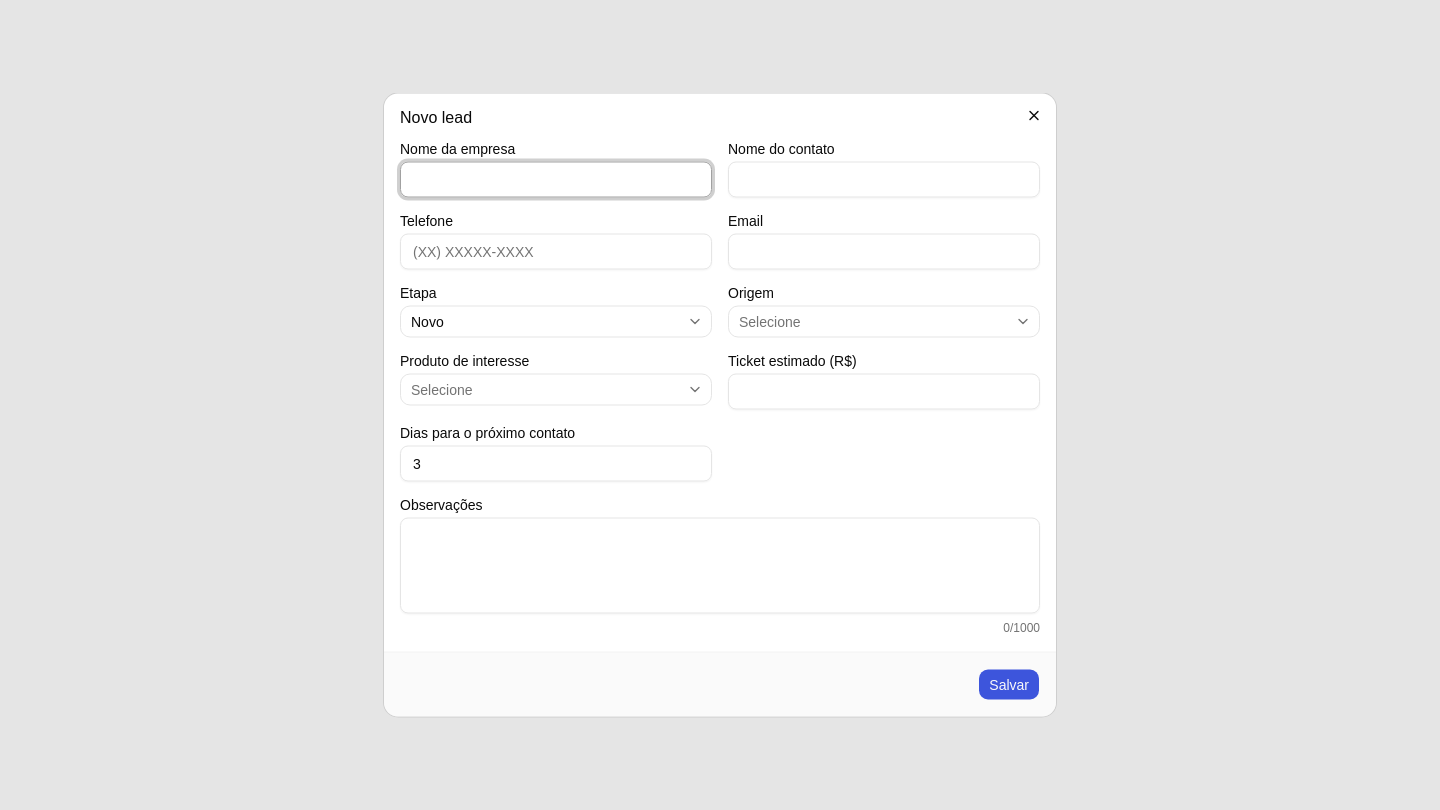
Scenario: LeadFormDialog › bloqueia salvar com email inválido e mostra erro no campo
Type "Empresa Bruno" into the field labelled "Nome da empresa" at point(556, 180), box 400,162 -> 712,198
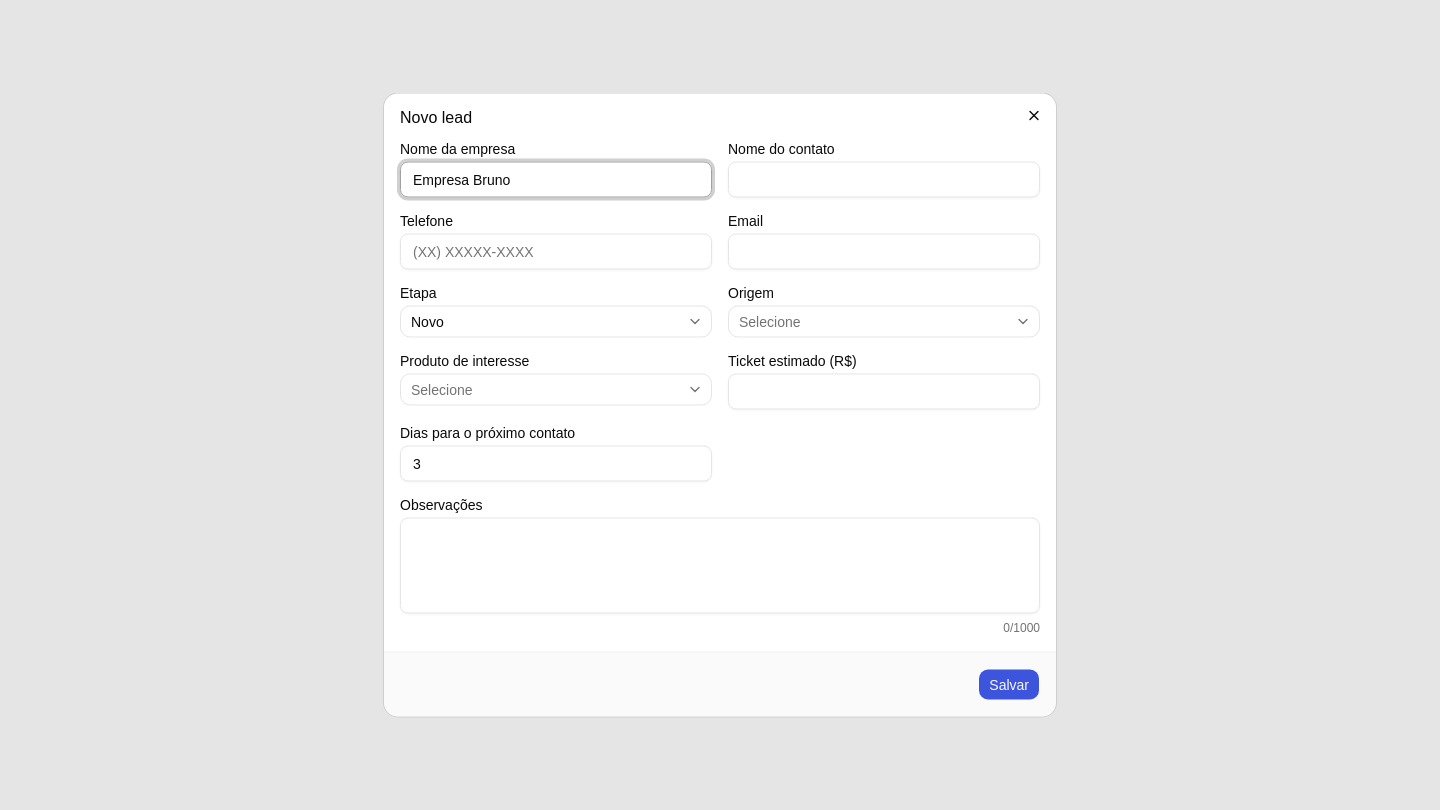
Type "Bruno" into the field labelled "Nome do contato" at point(884, 180), box 728,162 -> 1040,198
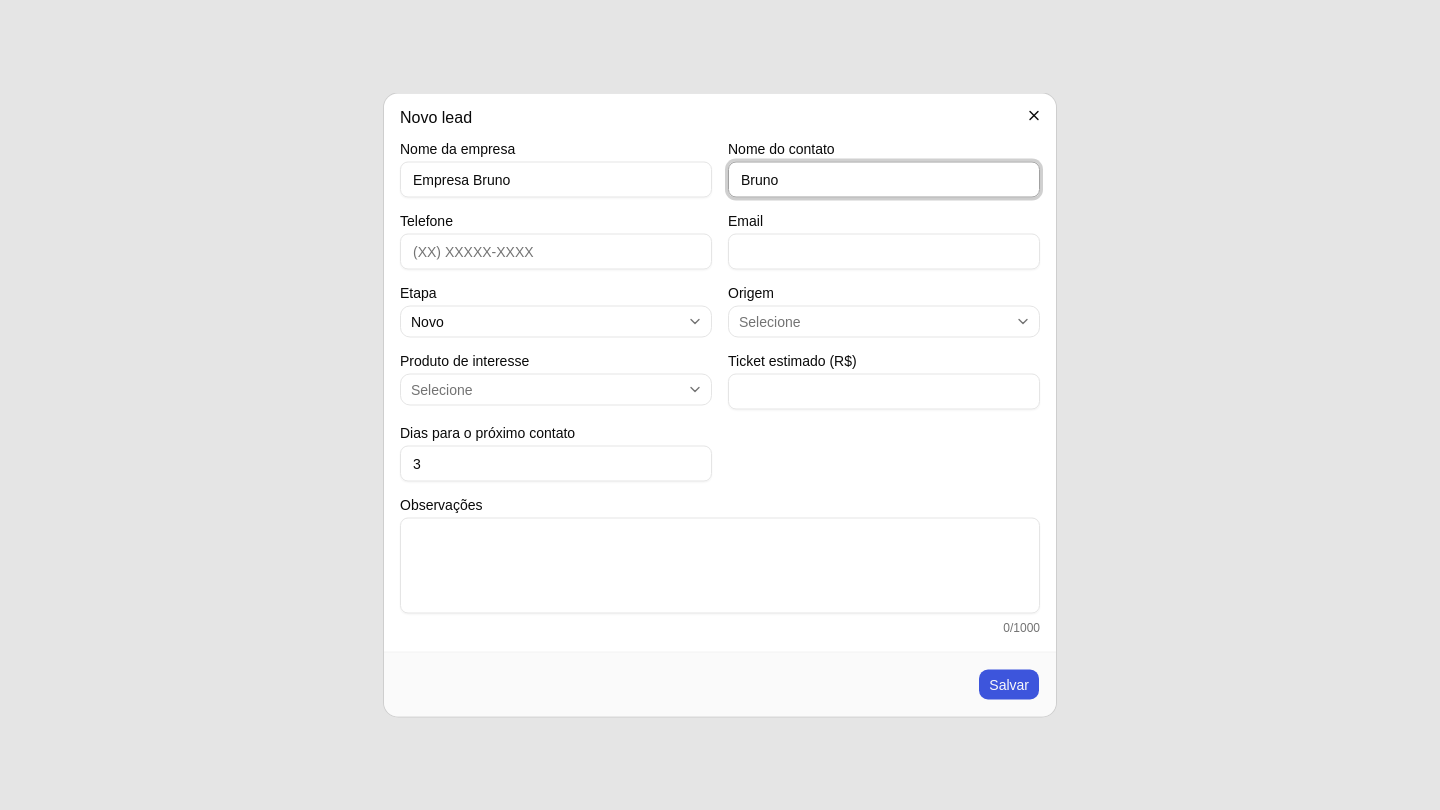
Type "11988887777" into the field labelled "Telefone" at point(556, 252), box 400,234 -> 712,270
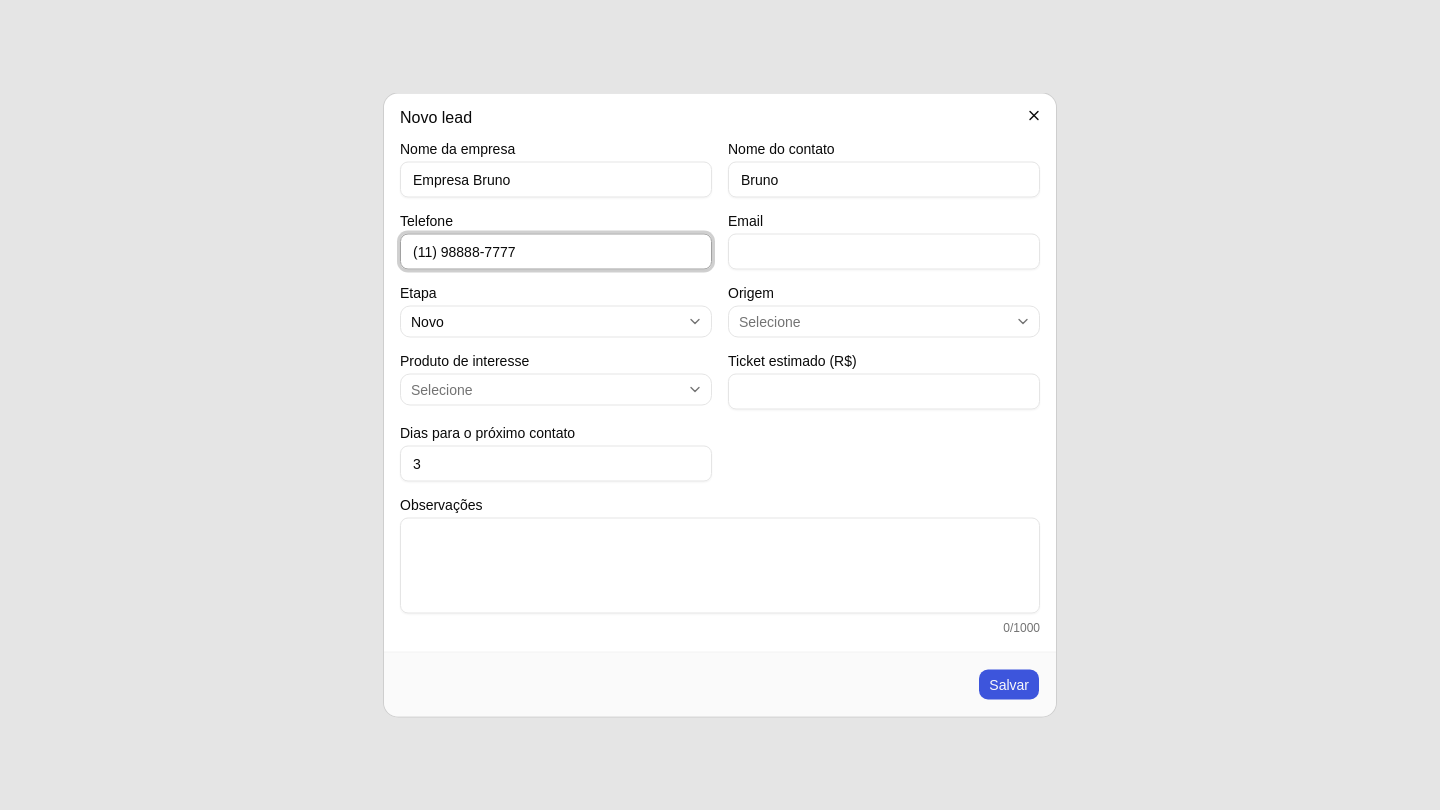
Type "invalido" into the field labelled "Email" at point(884, 252), box 728,234 -> 1040,270
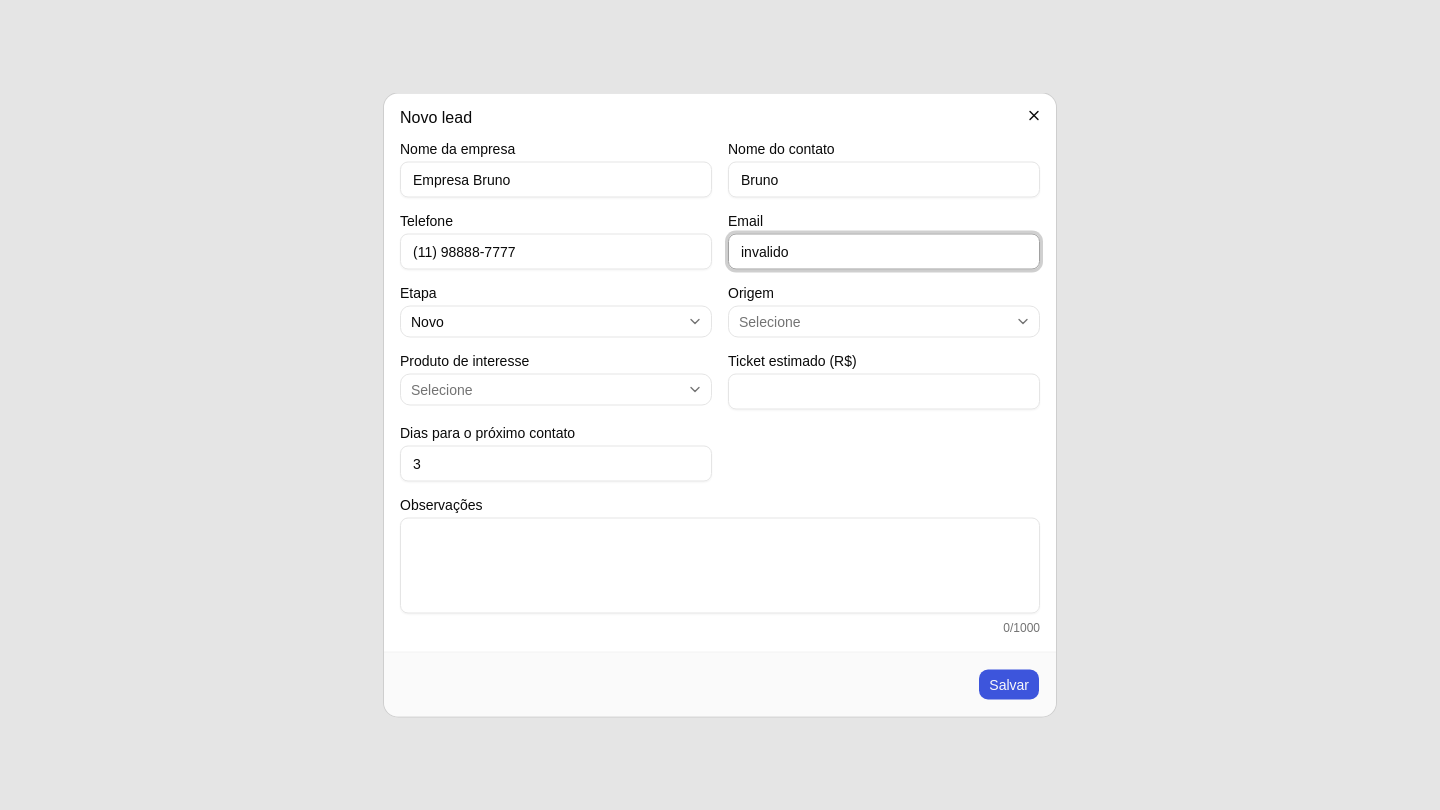
Click the button "Salvar" at point(1009, 684), box 978,668 -> 1040,700
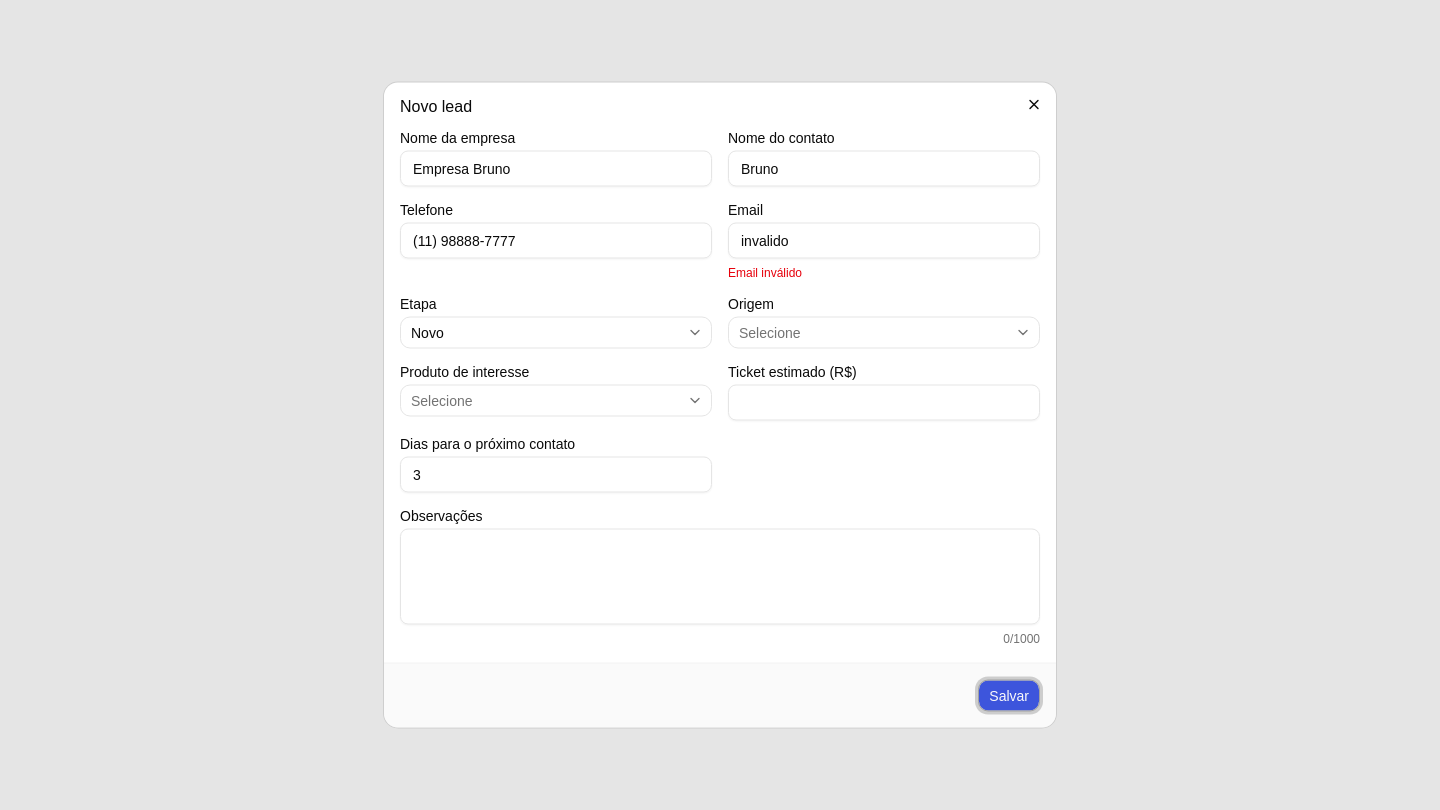
Result: the text "Email inválido" is shown at 728,266 -> 802,280
